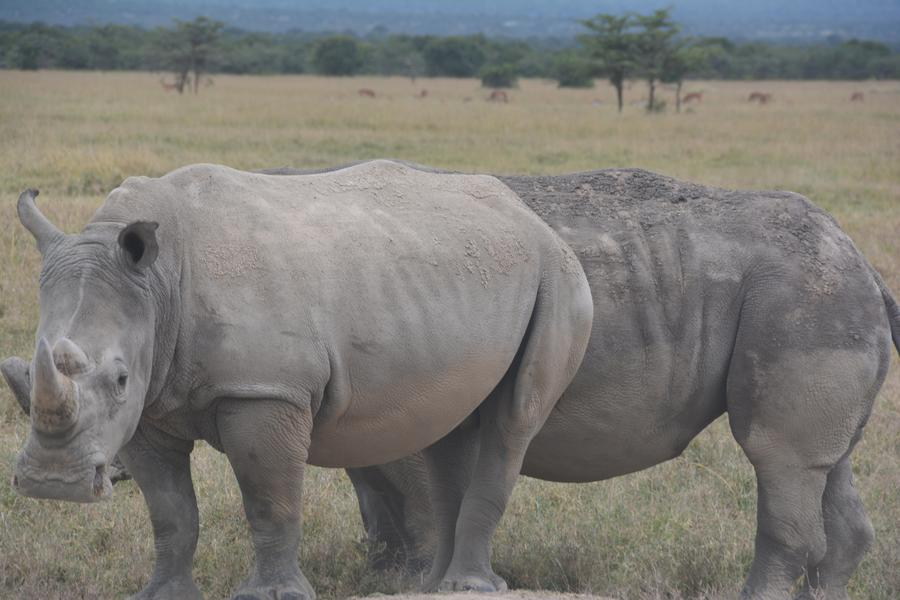rhino: (25, 185, 581, 510), (575, 189, 881, 483)
